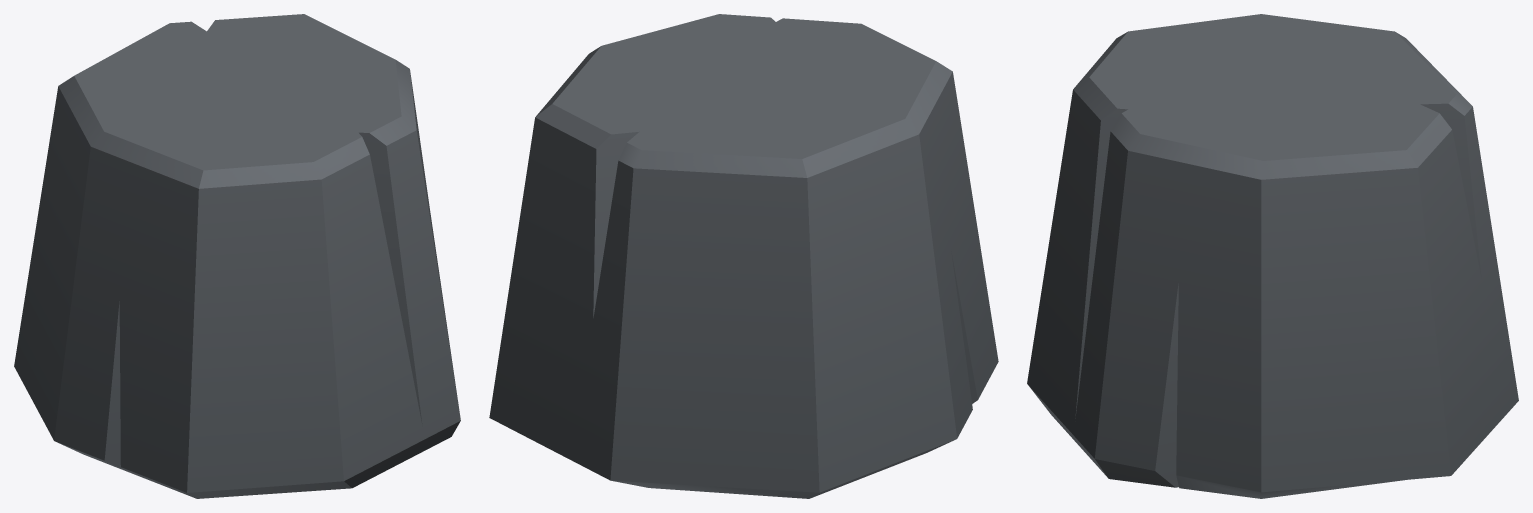
File: Rock_15.fbx
The picture shows the model from 3 angles, left to right: view 1: azimuth 30°, elevation 25°; view 2: azimuth 150°, elevation 25°; view 3: azimuth 270°, elevation 25°; orthographic projection. The views are drawn at different scales.
Parts seen in each view (by area): view 1: Rock_15; view 2: Rock_15; view 3: Rock_15.
Part boxes in pixels (left/top/right/bottom): Rock_15: left=14, top=14, right=460, bottom=498; Rock_15: left=489, top=14, right=998, bottom=498; Rock_15: left=1027, top=14, right=1518, bottom=498.
Size of the model in its own units: 259 by 200 by 272.
